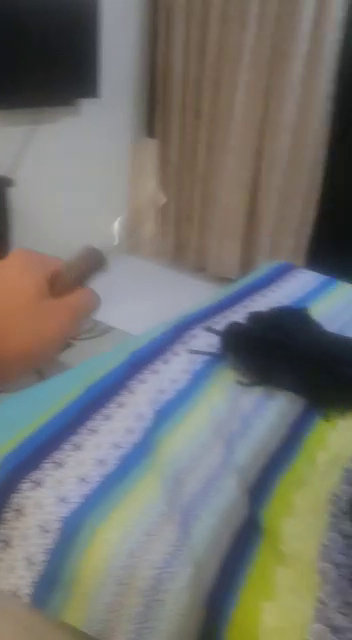knife: (9, 170, 181, 307)
